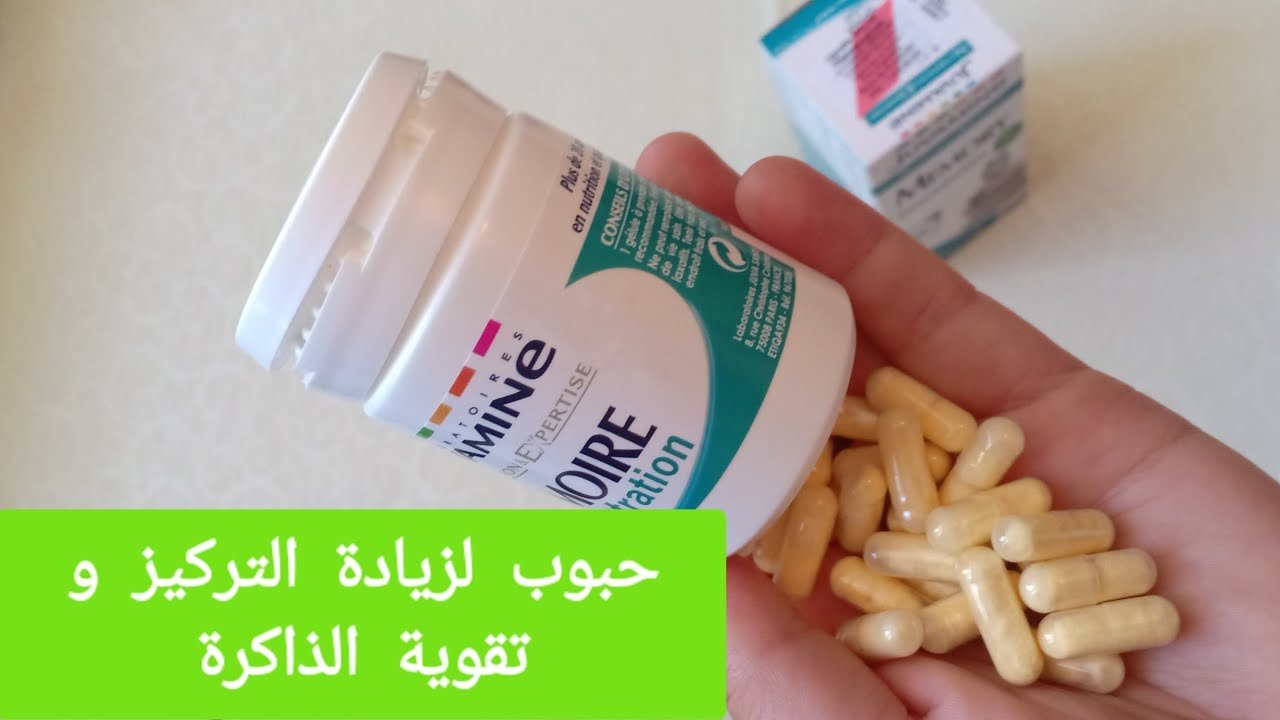Medicine: (220, 48, 850, 540), (754, 0, 1046, 266)
